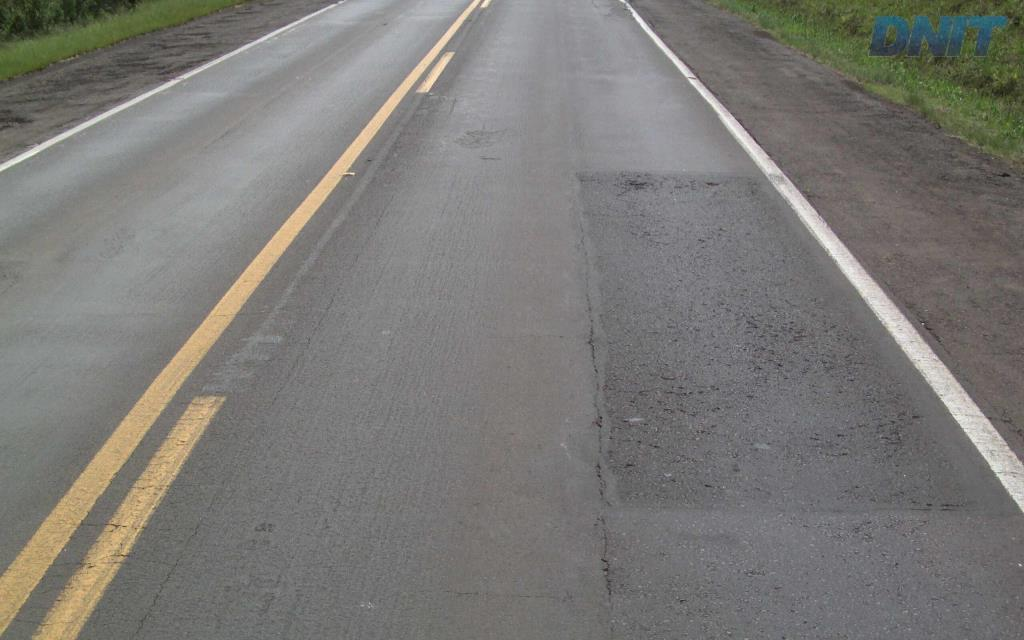crack: (606, 449, 646, 483), (751, 342, 785, 373)
